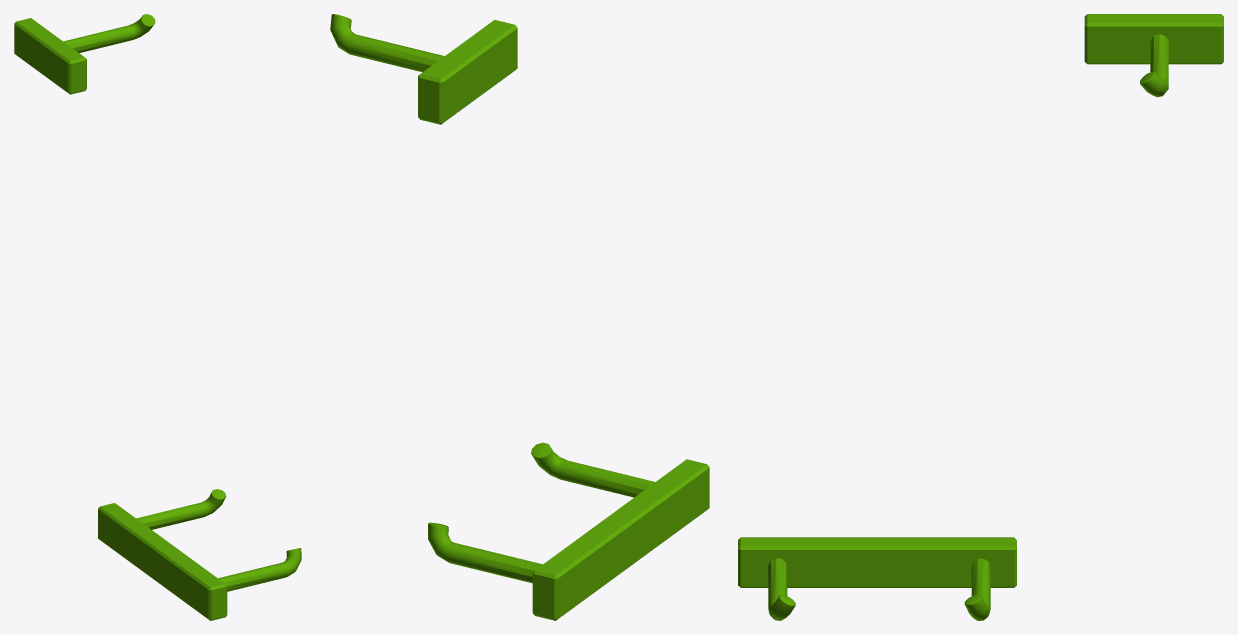
The model's file is Guitar Wall Mount.fbx.
3 renders of one model, left to right at view 1: azimuth 30°, elevation 25°; view 2: azimuth 150°, elevation 25°; view 3: azimuth 270°, elevation 25°, orthographic. The views are drawn at different scales.
Visible parts, largest first — view 1: pCube52, pCube53, pCylinder3, pCylinder1, pCylinder2; view 2: pCube52, pCube53, pCylinder2, pCylinder1, pCylinder3; view 3: pCube52, pCube53, pCylinder3, pCylinder1, pCylinder2.
Boxes of the visible parts, x1,y1,x2,y2 form: pCube52: (98,503,227,620); pCube53: (14,18,86,94); pCylinder3: (63,14,155,53); pCylinder1: (218,548,301,591); pCylinder2: (136,489,226,529); pCube52: (532,459,709,620); pCube53: (418,19,517,124); pCylinder2: (428,522,542,583); pCylinder1: (531,442,654,497); pCylinder3: (330,14,444,72); pCube52: (738,537,1016,587); pCube53: (1084,14,1223,64); pCylinder3: (1140,34,1168,97); pCylinder1: (768,558,795,620); pCylinder2: (964,558,990,620).
Size of the model in its own units: 22.34 by 88.37 by 68.61.
